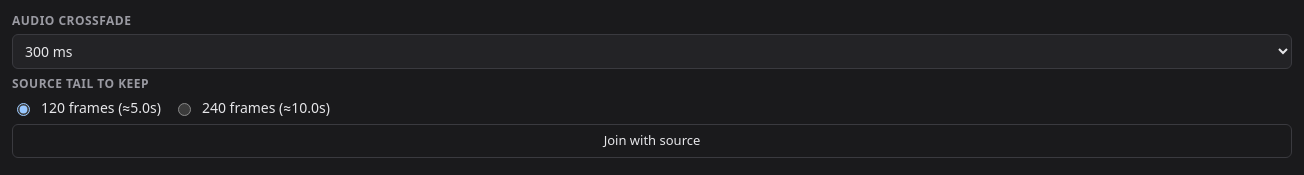
Test: JoinControls › V2V Join note: no normalization and every fps matches -> no note at all
Click the button "Join with source" at [652, 141], box [12, 124, 1292, 158]
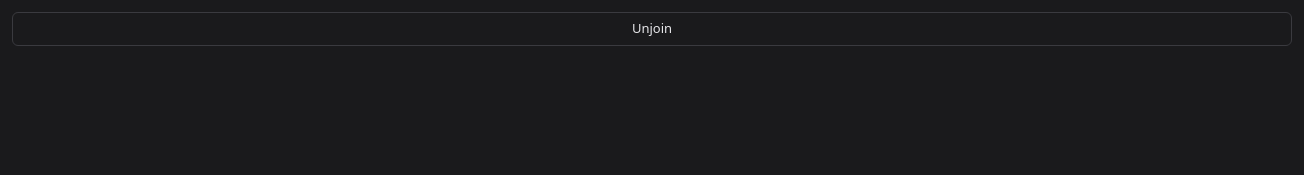
Now the button "Unjoin" is shown, box [12, 12, 1292, 46]
